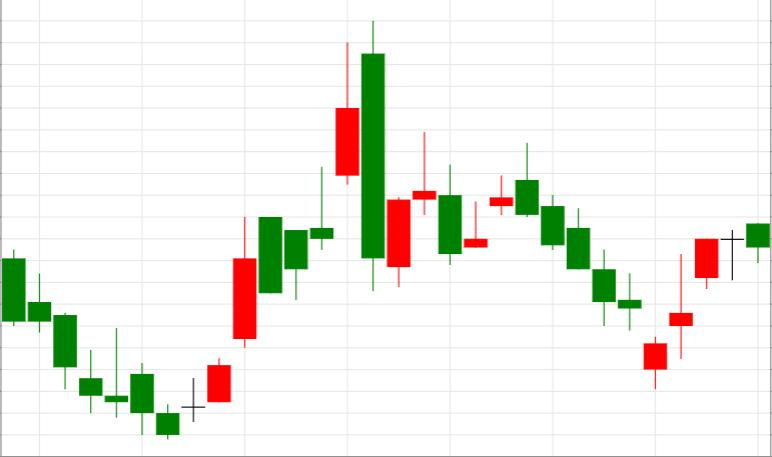bearish_engulfing_fall: (208, 21, 385, 402)
